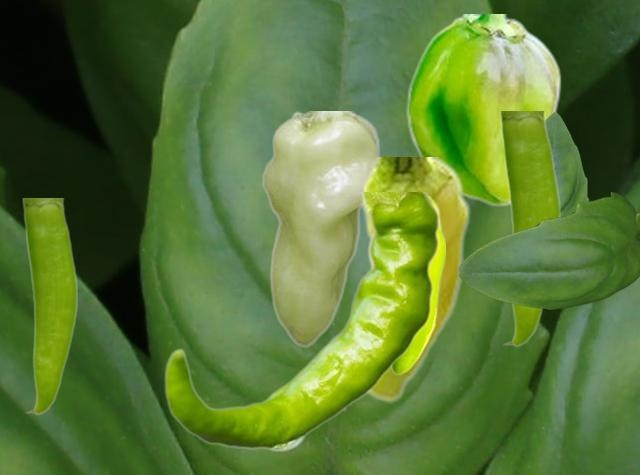green_chili: (164, 192, 440, 451), (406, 14, 561, 206), (259, 111, 381, 346), (355, 157, 470, 402), (498, 111, 559, 346), (21, 198, 76, 414), (390, 196, 444, 374)
